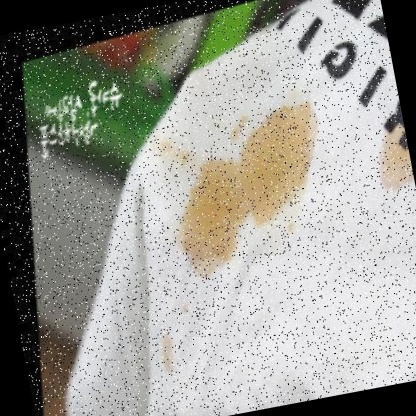coffee: (176, 159, 256, 267), (239, 126, 309, 210)
